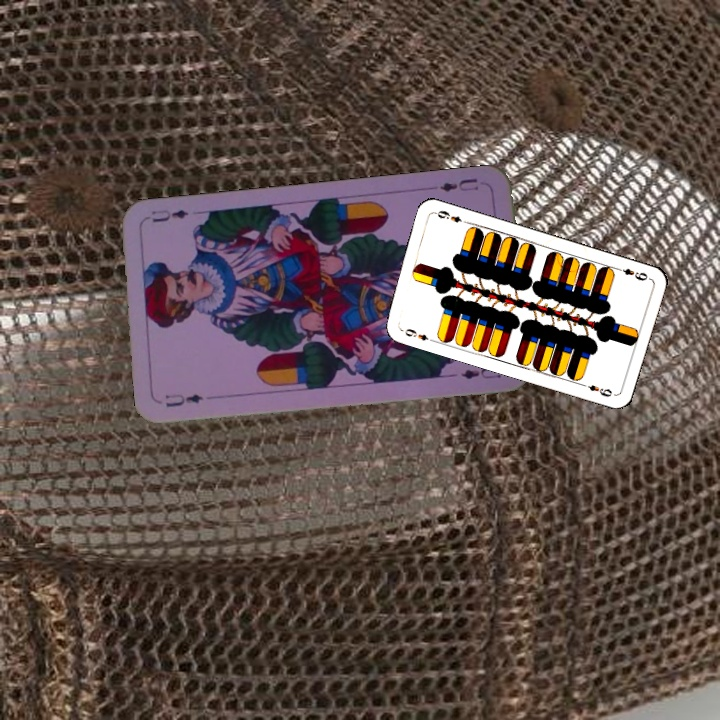E9: (396, 324, 436, 344), (612, 263, 650, 283)
EU: (160, 389, 206, 410), (435, 174, 481, 194)
